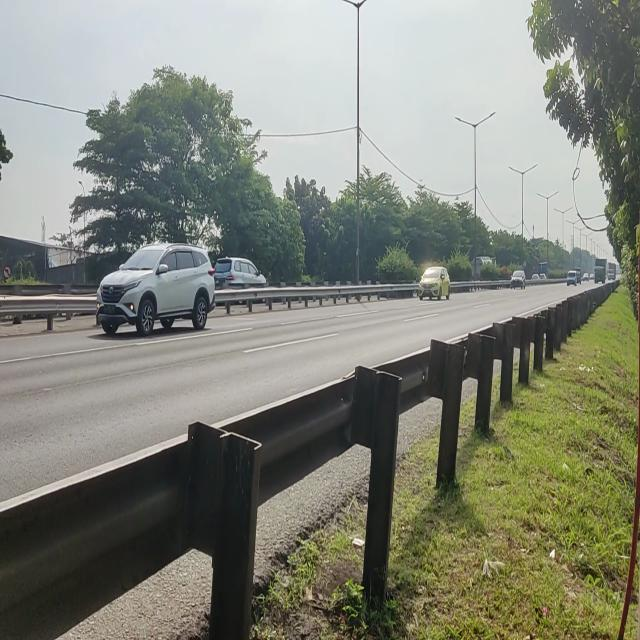Golongan I: (93, 227, 219, 341)
